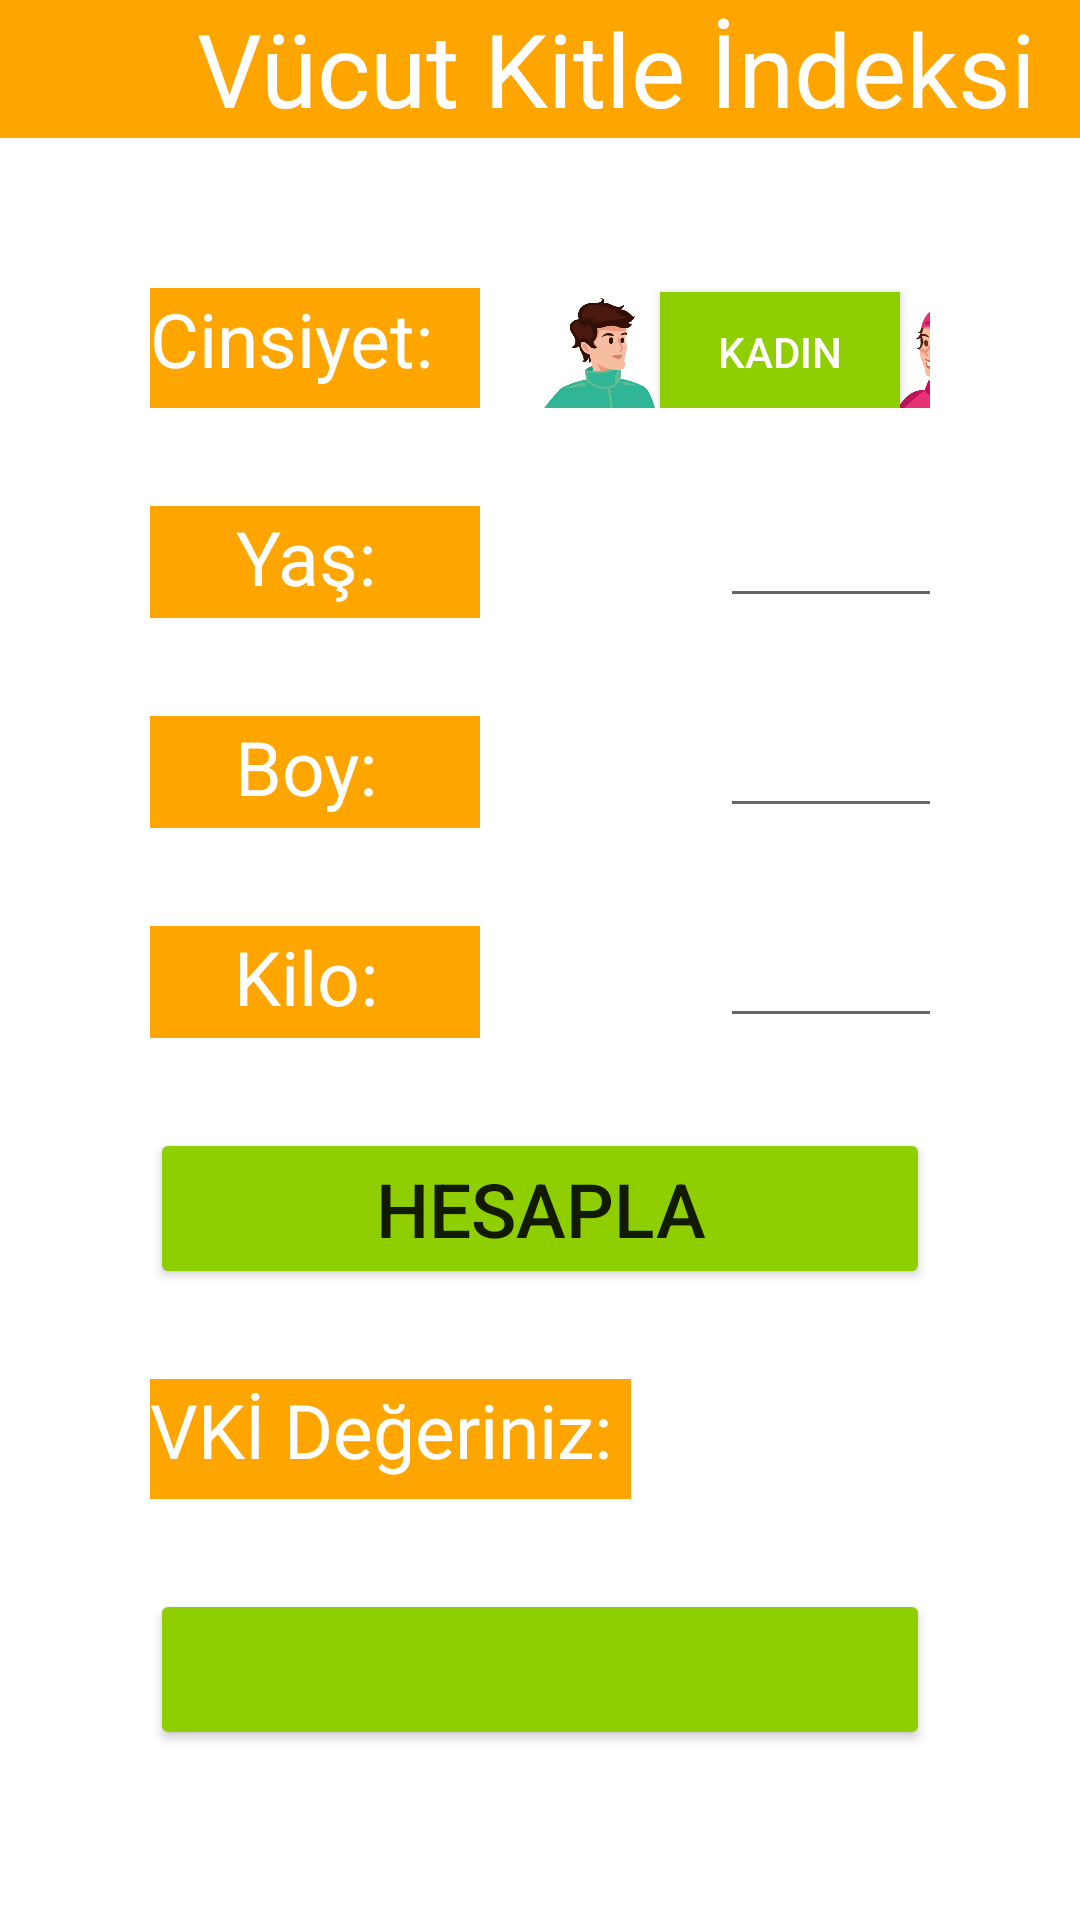

Where icons sit on this 1080px×1920px app screen, as (x1, y1, x2, y2):
erkek: (544, 298, 655, 408)
